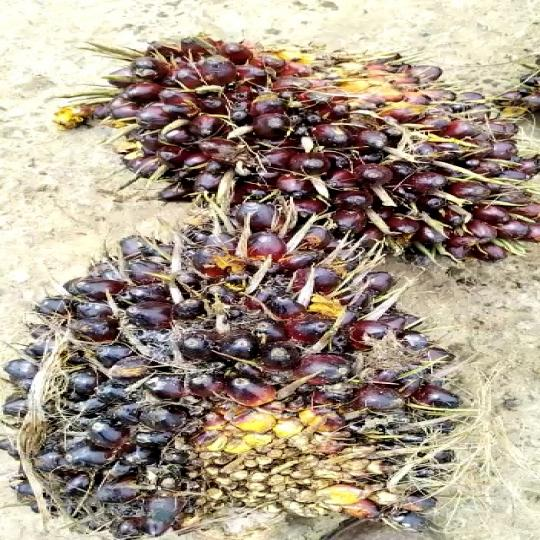kurang masak: (0, 197, 479, 536), (84, 23, 540, 262)
